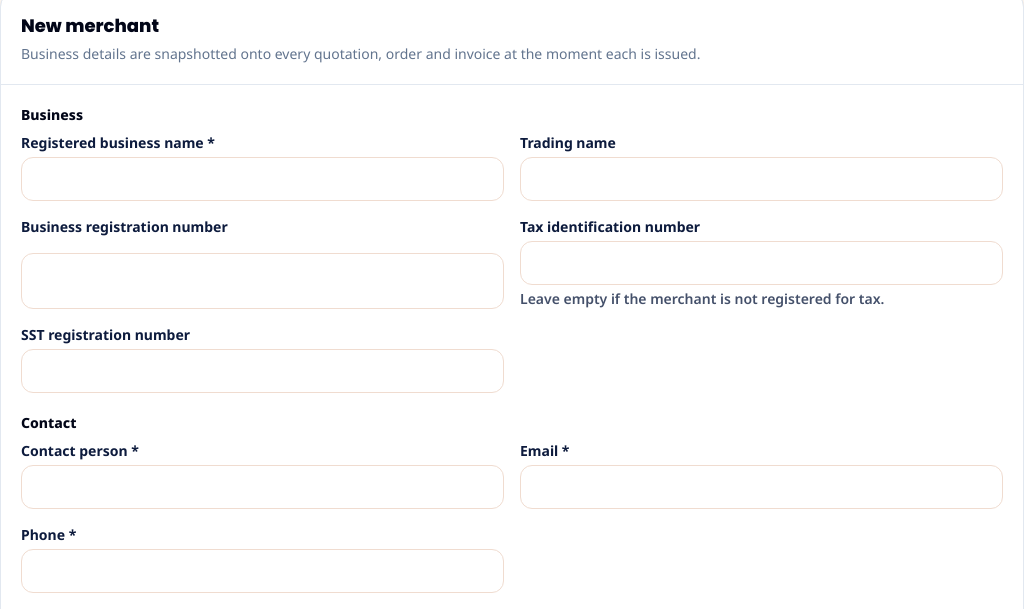
Scenario: Merchant editor › keeps what was typed when the save is rejected
Type "Keeps My Typing Sdn Bhd" into the field labelled "Registered business name *" at (262, 179), box x1=21 y1=157 x2=504 y2=201
(page scrolled)
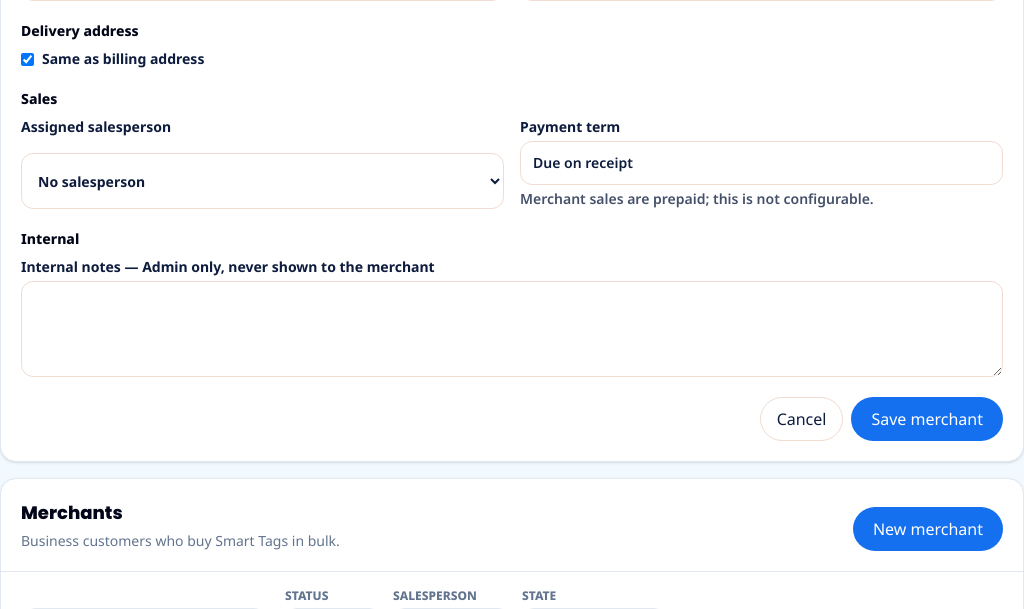
Click the button with test id "save-merchant" at (927, 419), box x1=851 y1=397 x2=1003 y2=441
(page scrolled)
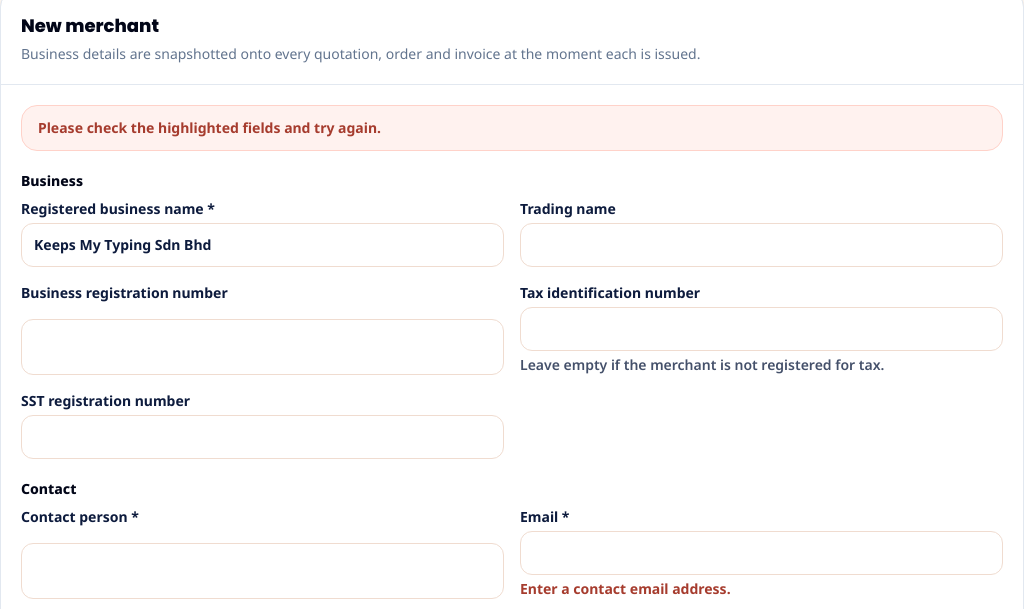
Expected: the text "Enter a contact email address." is shown, x1=520 y1=579 x2=731 y2=598
